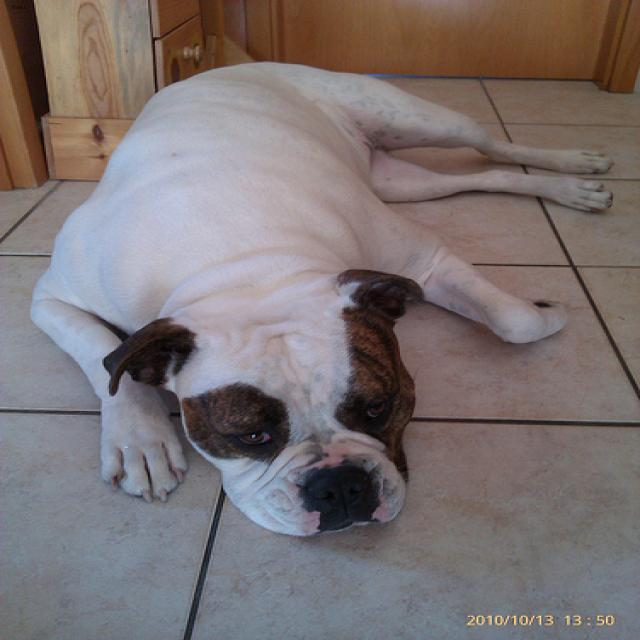dog-american_bulldog: (17, 54, 633, 548)
